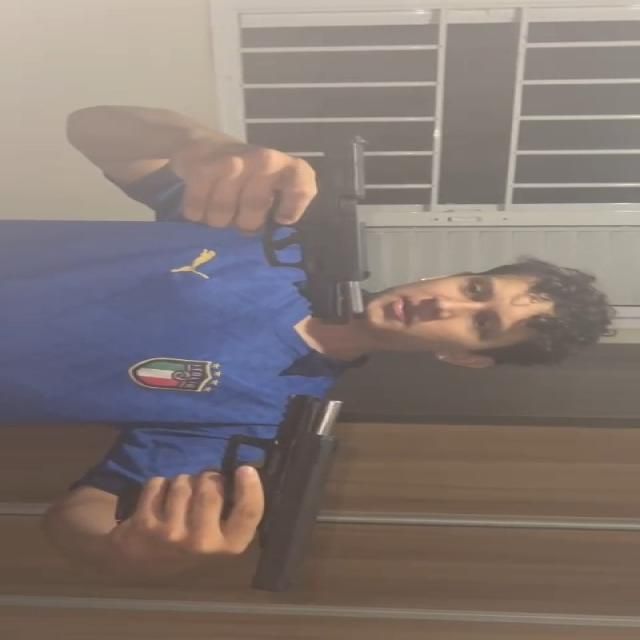gun: (204, 391, 348, 594), (255, 133, 380, 321)
